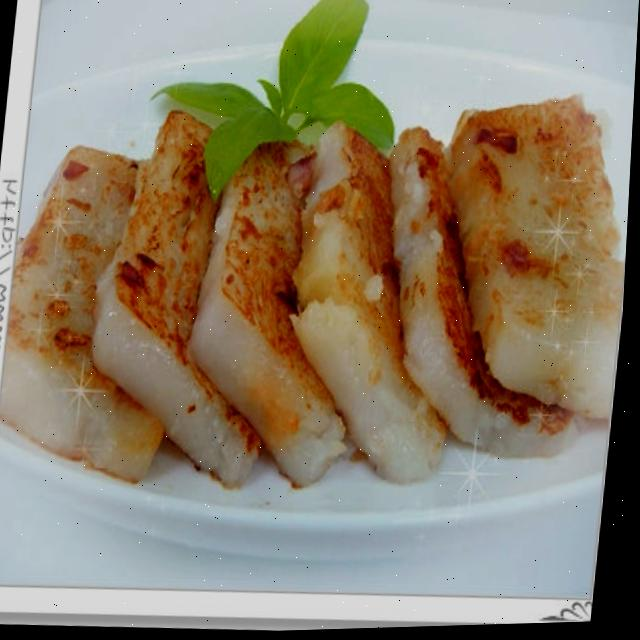蛋糕甜品: (0, 0, 640, 564)
